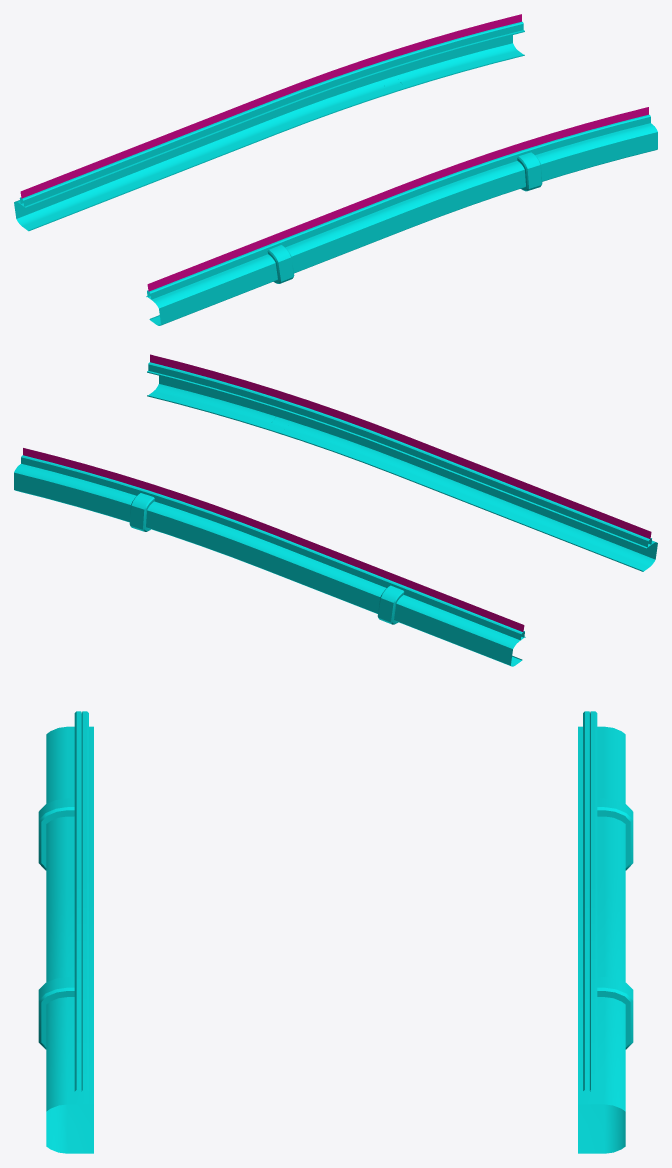
File: Mur_R_8.fbx
3 renders of one model, top to bottom at view 1: azimuth 30°, elevation 25°; view 2: azimuth 150°, elevation 25°; view 3: azimuth 270°, elevation 25°, orthographic. The views are drawn at different scales.
Parts seen in each view (by area): view 1: polySurface859; view 2: polySurface859; view 3: polySurface859.
Boxes of the visible parts, <box> form: polySurface859: <box>14,14,657,325</box>; polySurface859: <box>14,354,657,666</box>; polySurface859: <box>38,711,633,1153</box>.
Size of the model in its own units: 29.98 by 5.38 by 15.38.
